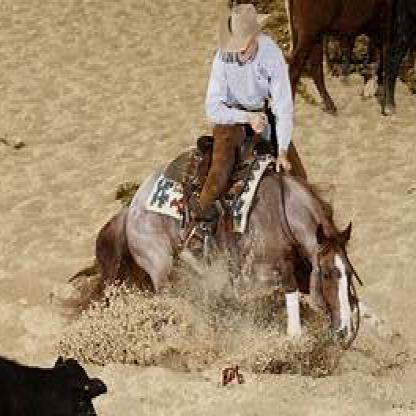horse: (96, 144, 361, 348)
